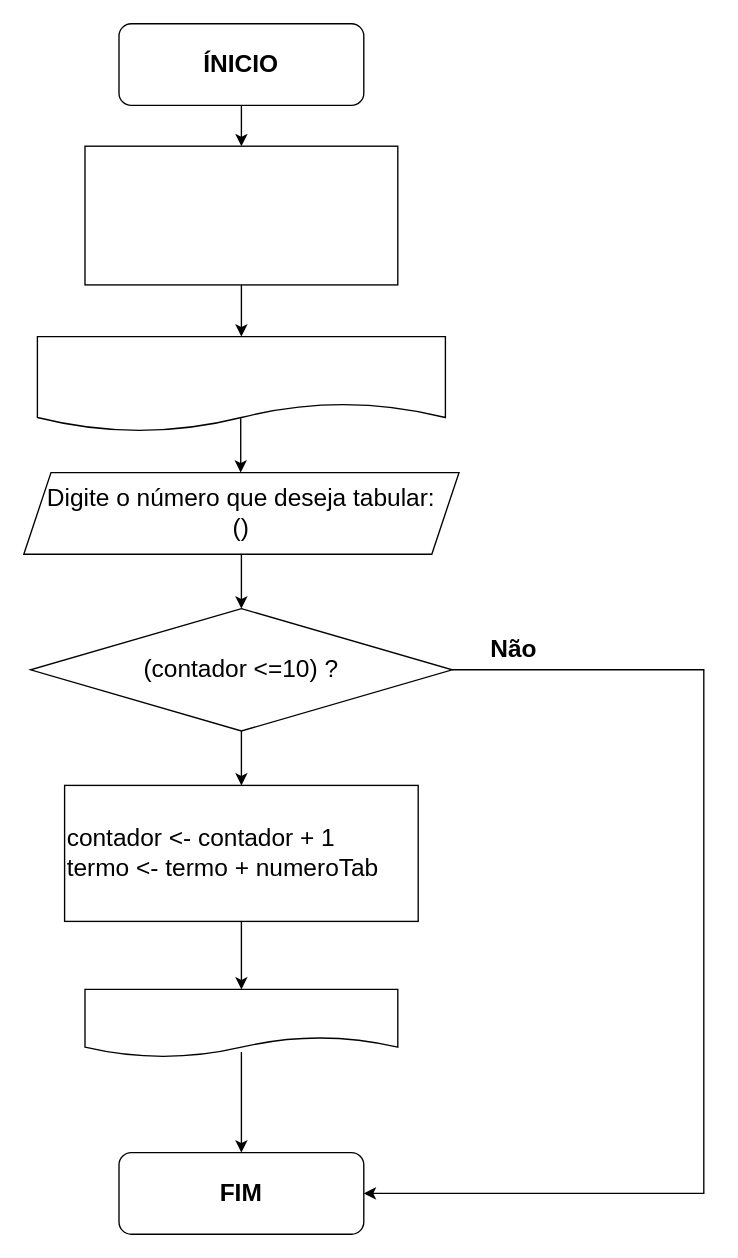
Image size: 738x1258. Some labels were removed from this diagram. The shapes that lost their labels are listed below. From the top down, each one's centre as x and y in pixels, then its label:
At (241,215): "Inteiro numeroTab < - 0 termo < - 0 contador < - 1".
At (240,383): "Olá, Jovem! Vamos calcular! Eu sou bom em tabuadas!".
At (241,1022): "escreva(termo)".
